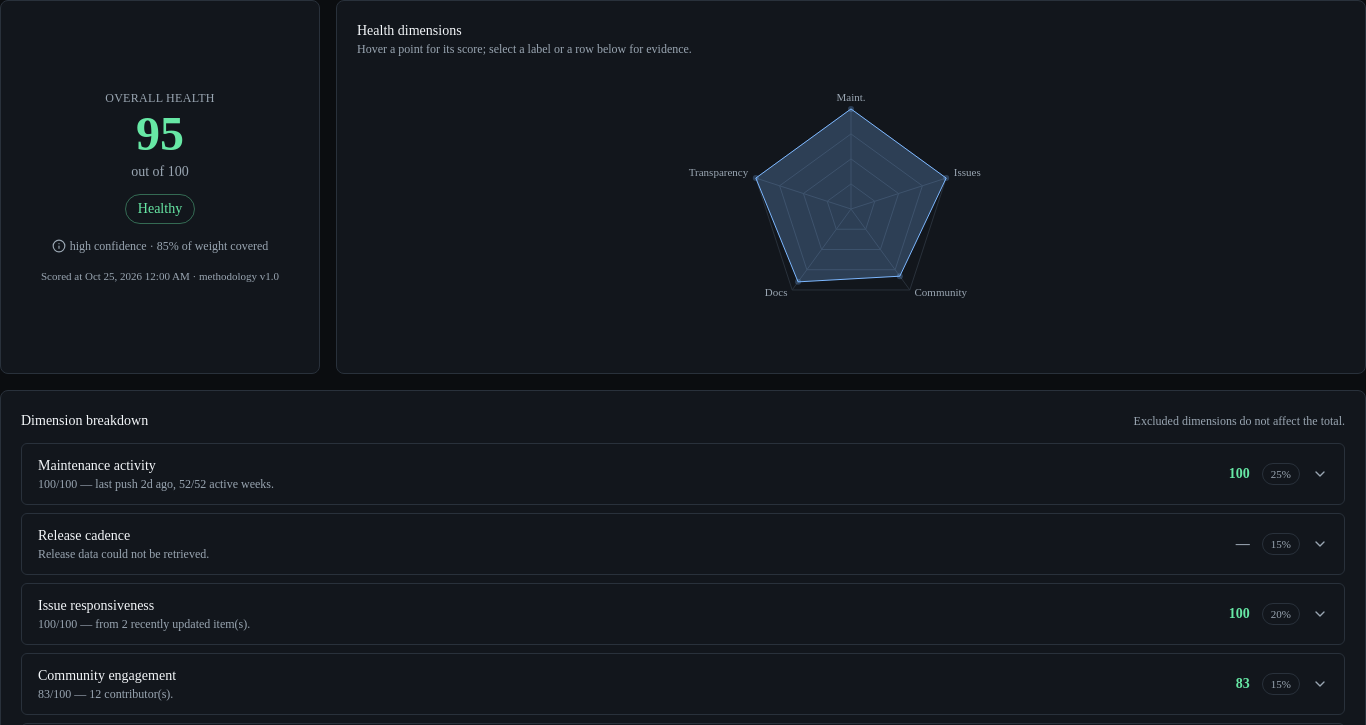
Scenario: HealthRadarPanel › discloses excluded dimensions instead of scoring them zero
The image size is (1366, 725).
Click the button with test id "dimension-toggle-releases" at [84, 536], box [22,514,1344,574]
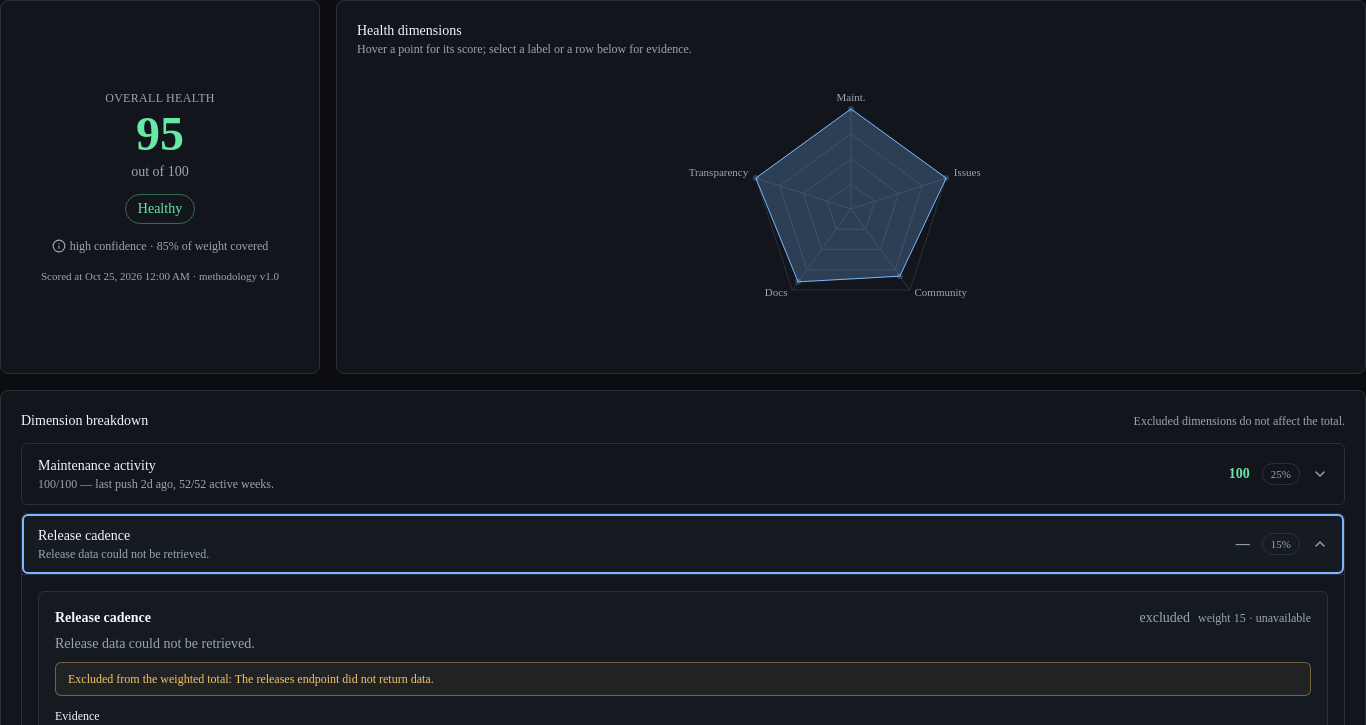
Check: the text "Excluded from the weighted total" is shown, box [68,672,235,686]
Check: the text "excluded" is shown, box [1140,610,1190,625]
